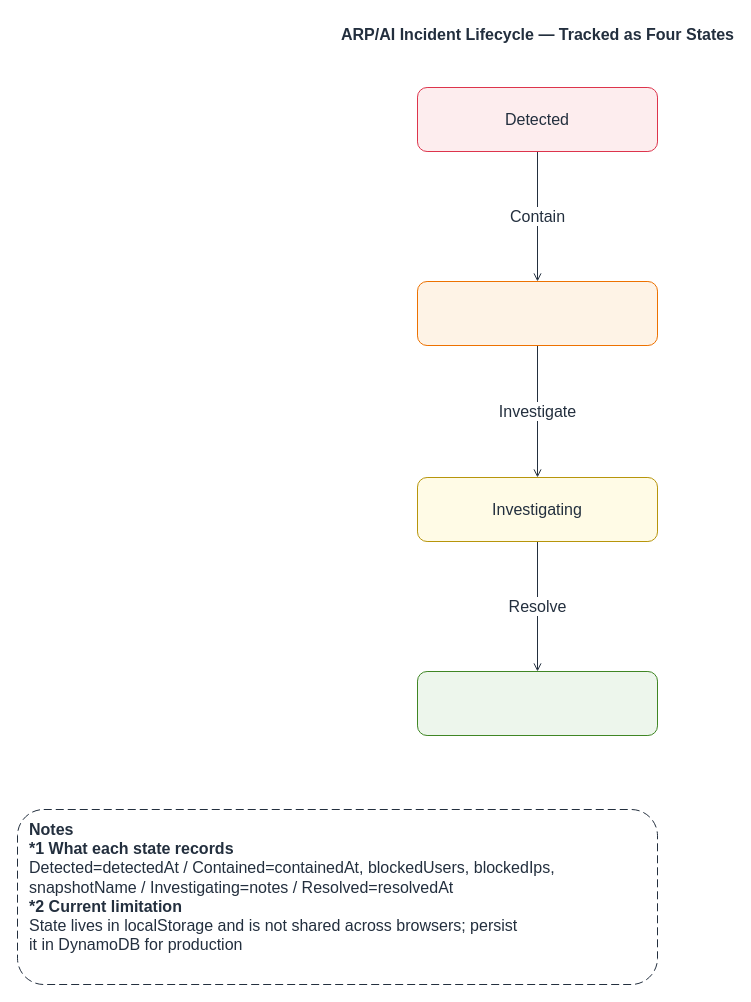
Image size: 751x1002. Some labels were removed from this diagram. Here are the shapes that lost their labels. From the top down, the centre of each, then its label:
(537,313): Contained
(537,703): Resolved
